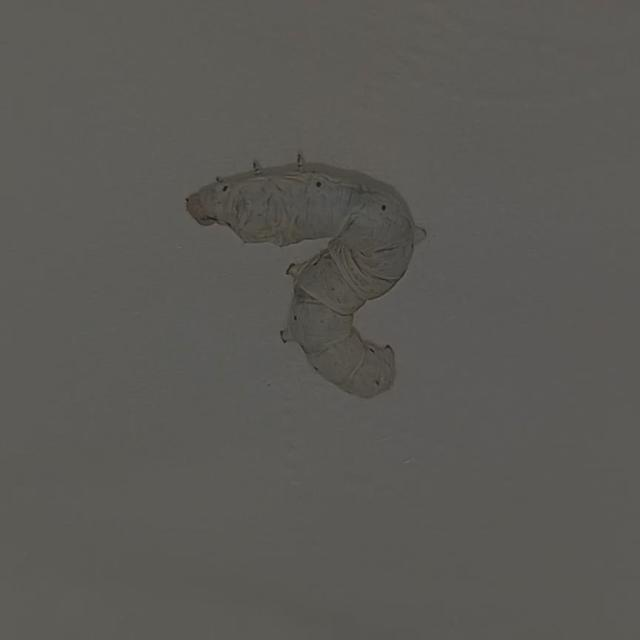Healthy: (172, 137, 500, 431)
